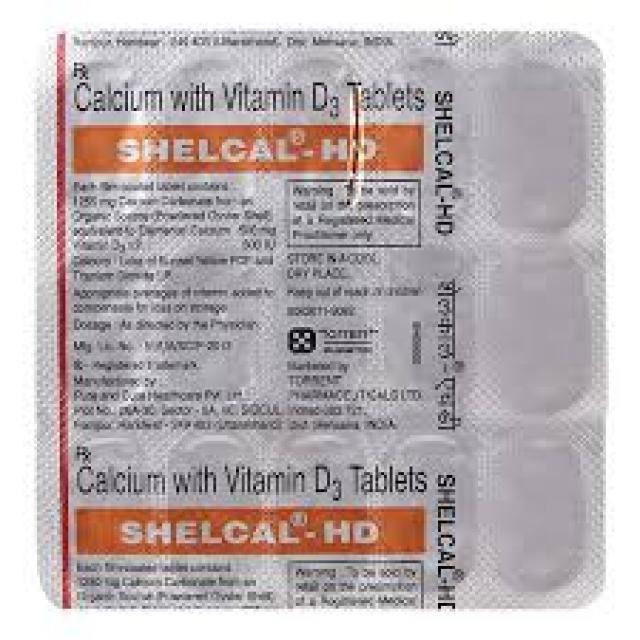authentic: (25, 20, 613, 612)
